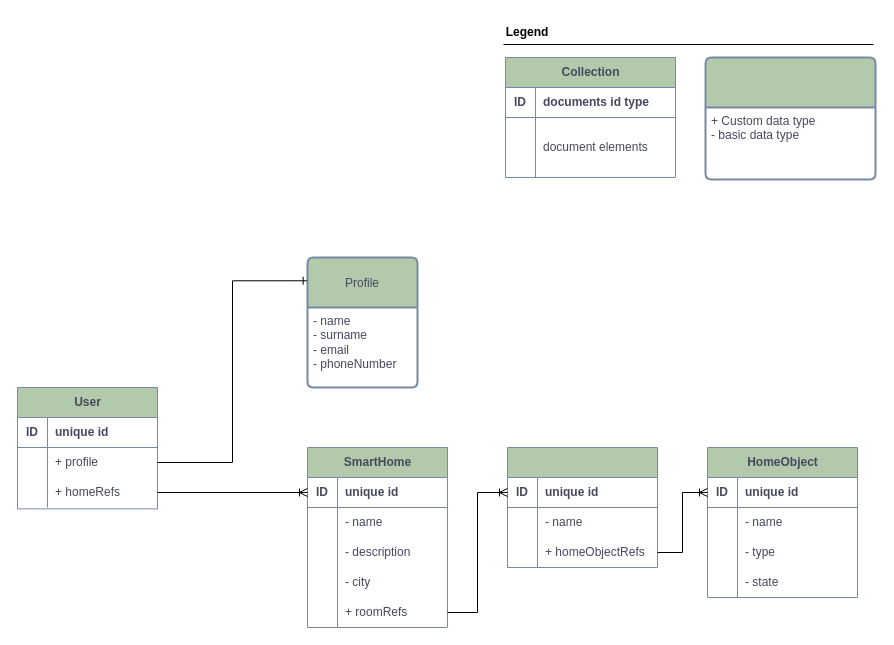
Image size: 894x645. Some labels were removed from this diagram. The shapes that lost their labels are listed below. From the top down, each one's box as (x1, y1, x2, y2) in pixels, then its label:
(704, 56, 876, 180): Entities data structures
(506, 446, 658, 568): Room
